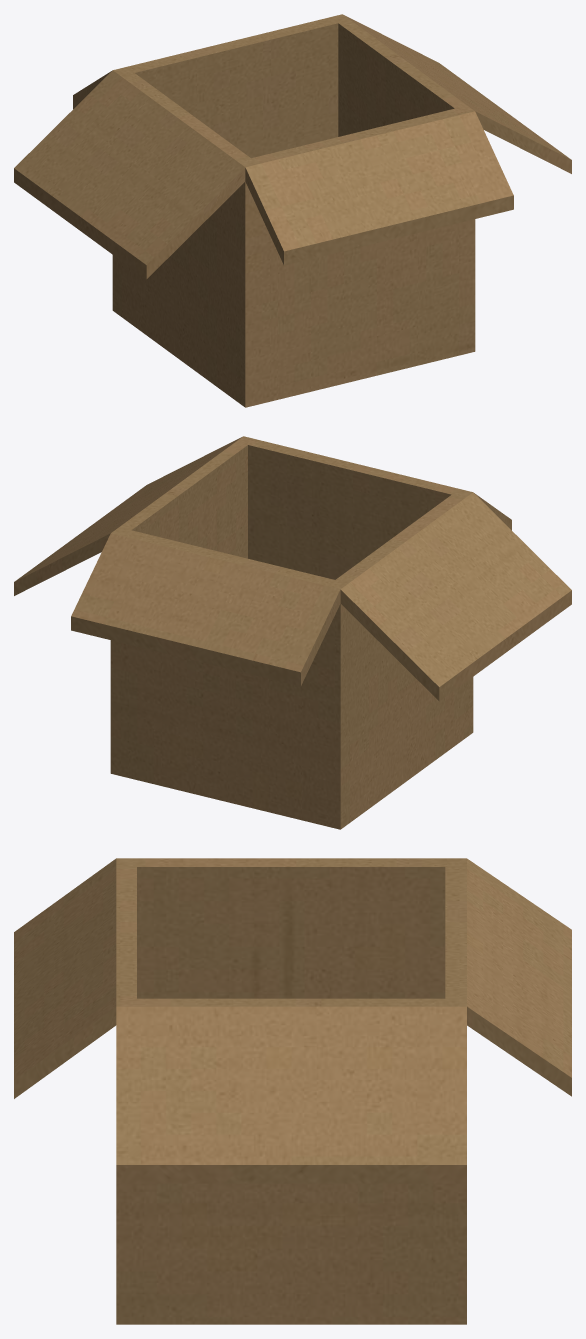
Rendered from Caja.fbx.
The picture shows the model from 3 angles, top to bottom: view 1: azimuth 30°, elevation 25°; view 2: azimuth 150°, elevation 25°; view 3: azimuth 270°, elevation 25°; orthographic projection. The views are drawn at different scales.
Parts seen in each view (by area): view 1: Cube; view 2: Cube; view 3: Cube.
Boxes of the visible parts, left/top/right/bottom form: Cube: left=14, top=14, right=571, bottom=407; Cube: left=14, top=436, right=571, bottom=829; Cube: left=14, top=858, right=571, bottom=1324.
Size of the model in its own units: 370 by 200 by 318.
Materials: 1 (1 with a texture image).
